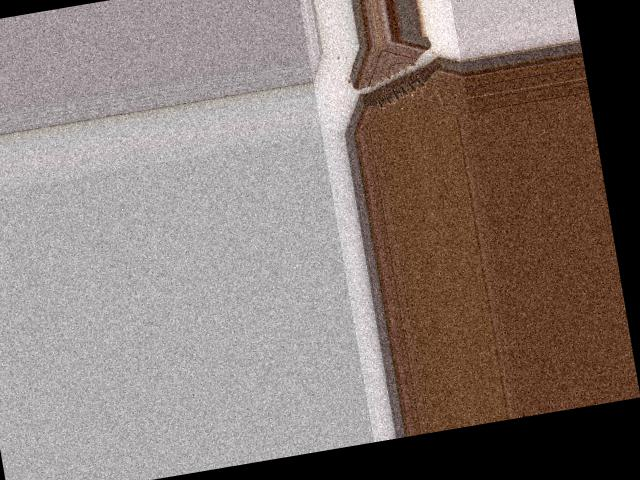chocolate: (329, 30, 468, 132)
